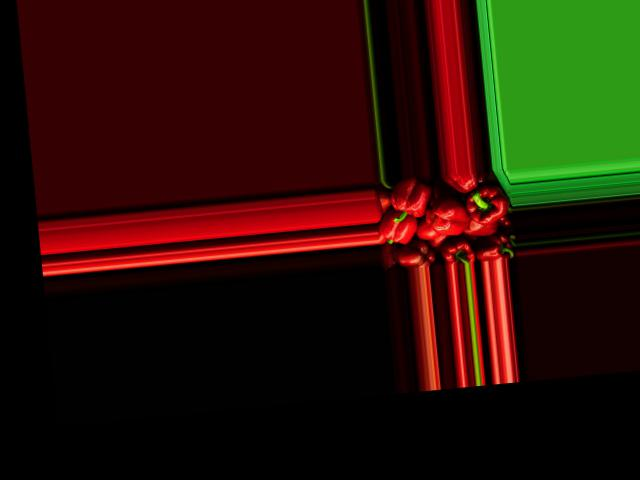bell_pepper: (476, 232, 515, 261)
